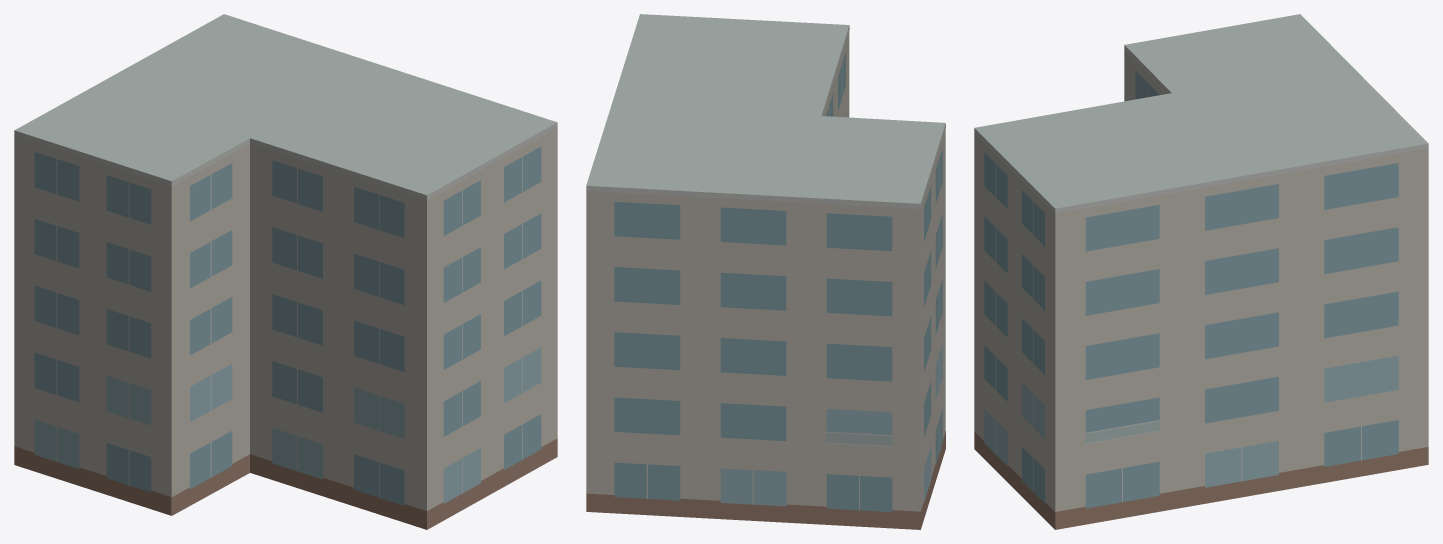
Rendered from survey-upis-32710107.glb.
The picture shows the model from 3 angles, left to right: view 1: azimuth 30°, elevation 25°; view 2: azimuth 150°, elevation 25°; view 3: azimuth 270°, elevation 25°; orthographic projection. The views are drawn at different scales.
Visible parts, largest first — view 1: survey-upis-32710107.tmp; view 2: survey-upis-32710107.tmp; view 3: survey-upis-32710107.tmp.
Boxes of the visible parts, x1=… form: survey-upis-32710107.tmp: x1=14, y1=14, x2=557, y2=529; survey-upis-32710107.tmp: x1=586, y1=14, x2=945, y2=529; survey-upis-32710107.tmp: x1=974, y1=14, x2=1428, y2=529.
Size of the model in its own units: 20.16 by 15.5 by 19.87.
